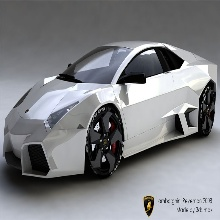no damage: (2, 40, 217, 178)
